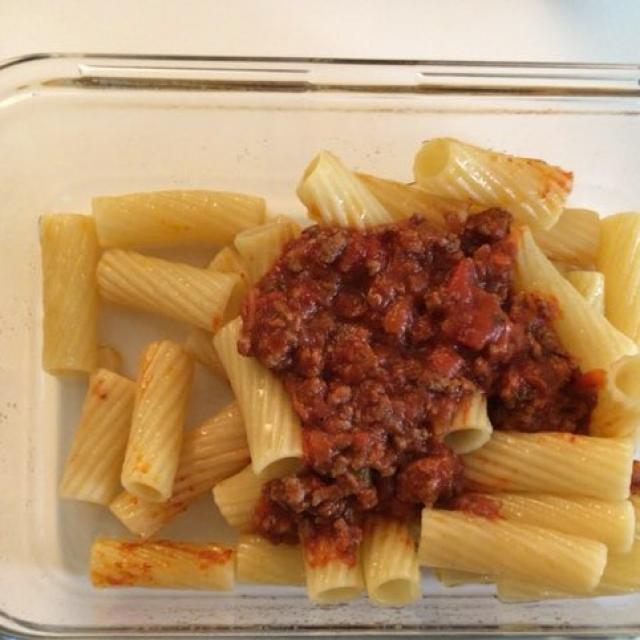bolognaise-sauce: (252, 216, 561, 574)
pasta-penne: (47, 153, 633, 593)
